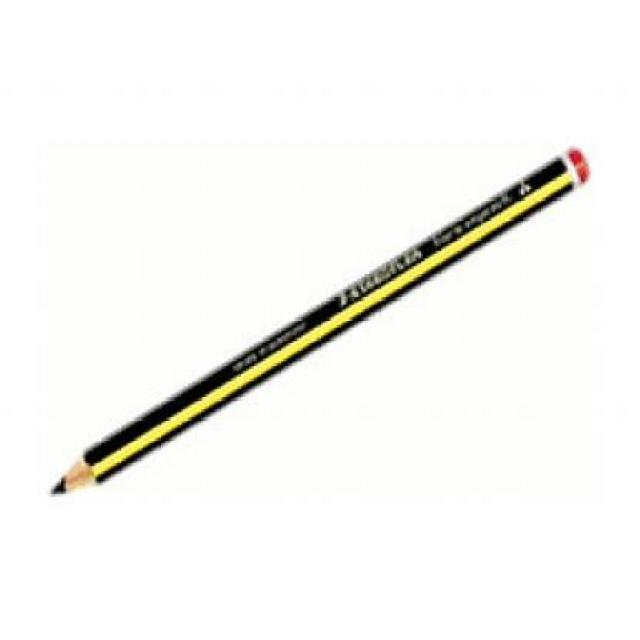pencil: (34, 424, 126, 512)
